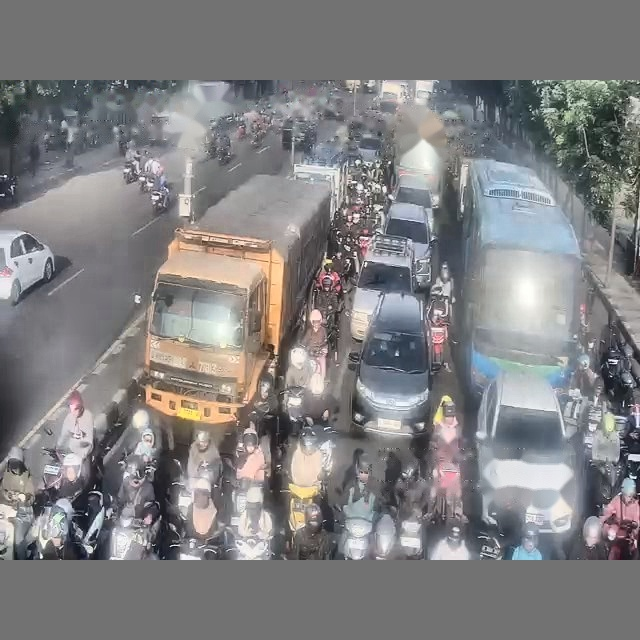Bis: (458, 159, 582, 398)
